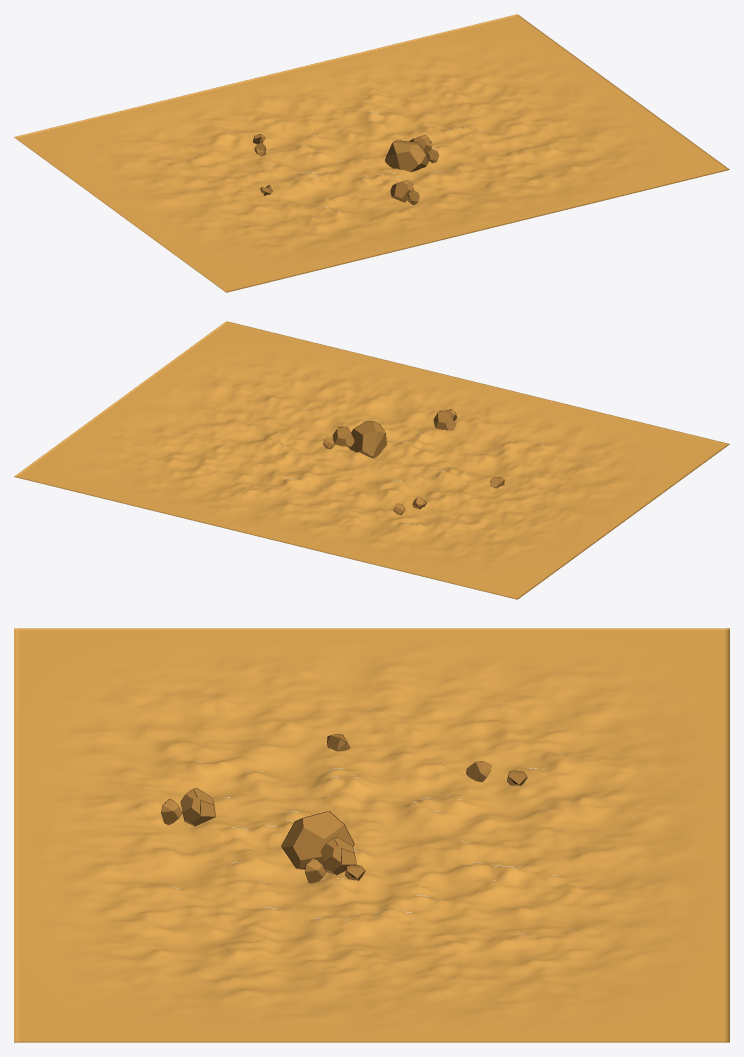
The picture shows the model from 3 angles, top to bottom: view 1: azimuth 30°, elevation 25°; view 2: azimuth 150°, elevation 25°; view 3: azimuth 270°, elevation 25°; orthographic projection. The views are drawn at different scales.
Visible parts, largest first — view 1: Landscape.002, Cube.005; view 2: Landscape.002, Cube.005; view 3: Landscape.002, Cube.005, Cube.003, Cube.
Boxes of the visible parts, x1,y1,x2,y2 form: Landscape.002: (14, 14, 729, 292); Cube.005: (385, 140, 428, 171); Landscape.002: (14, 321, 729, 599); Cube.005: (348, 421, 386, 458); Landscape.002: (14, 628, 729, 1042); Cube.005: (281, 811, 354, 872); Cube.003: (180, 788, 215, 826); Cube: (321, 837, 356, 875).
Size of the model in its own units: 64.65 by 4.46 by 47.23.
